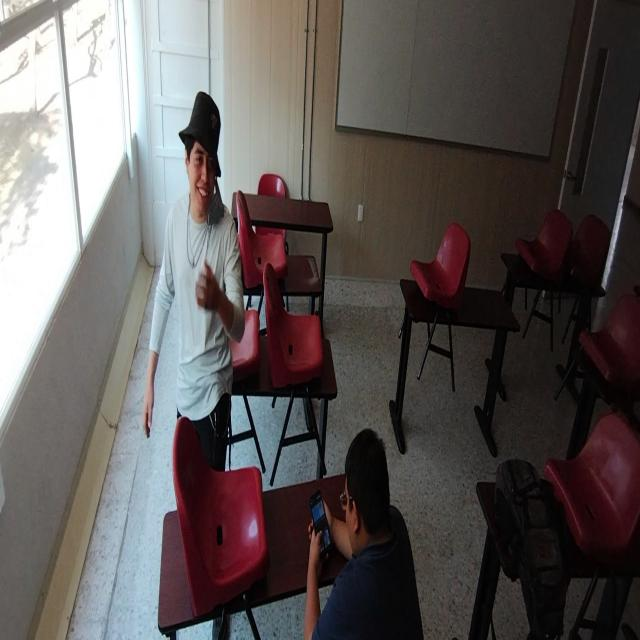adult: (145, 90, 246, 462), (306, 425, 425, 640)
